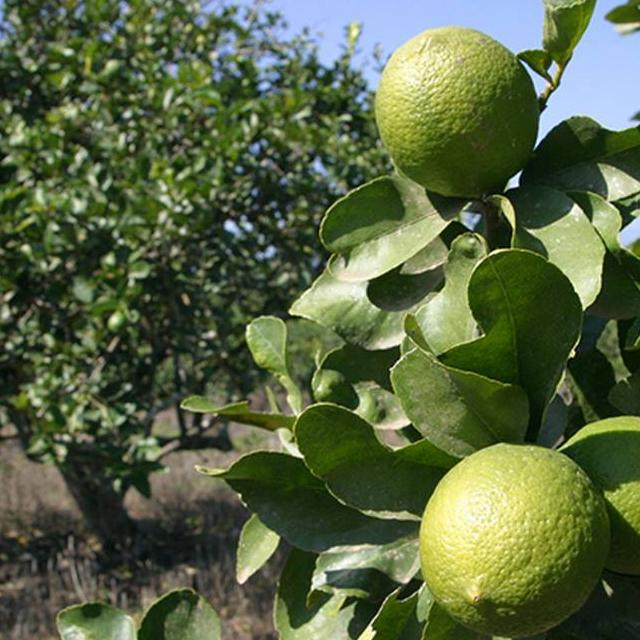lime: (422, 446, 610, 640), (376, 29, 532, 197), (556, 419, 640, 579)
